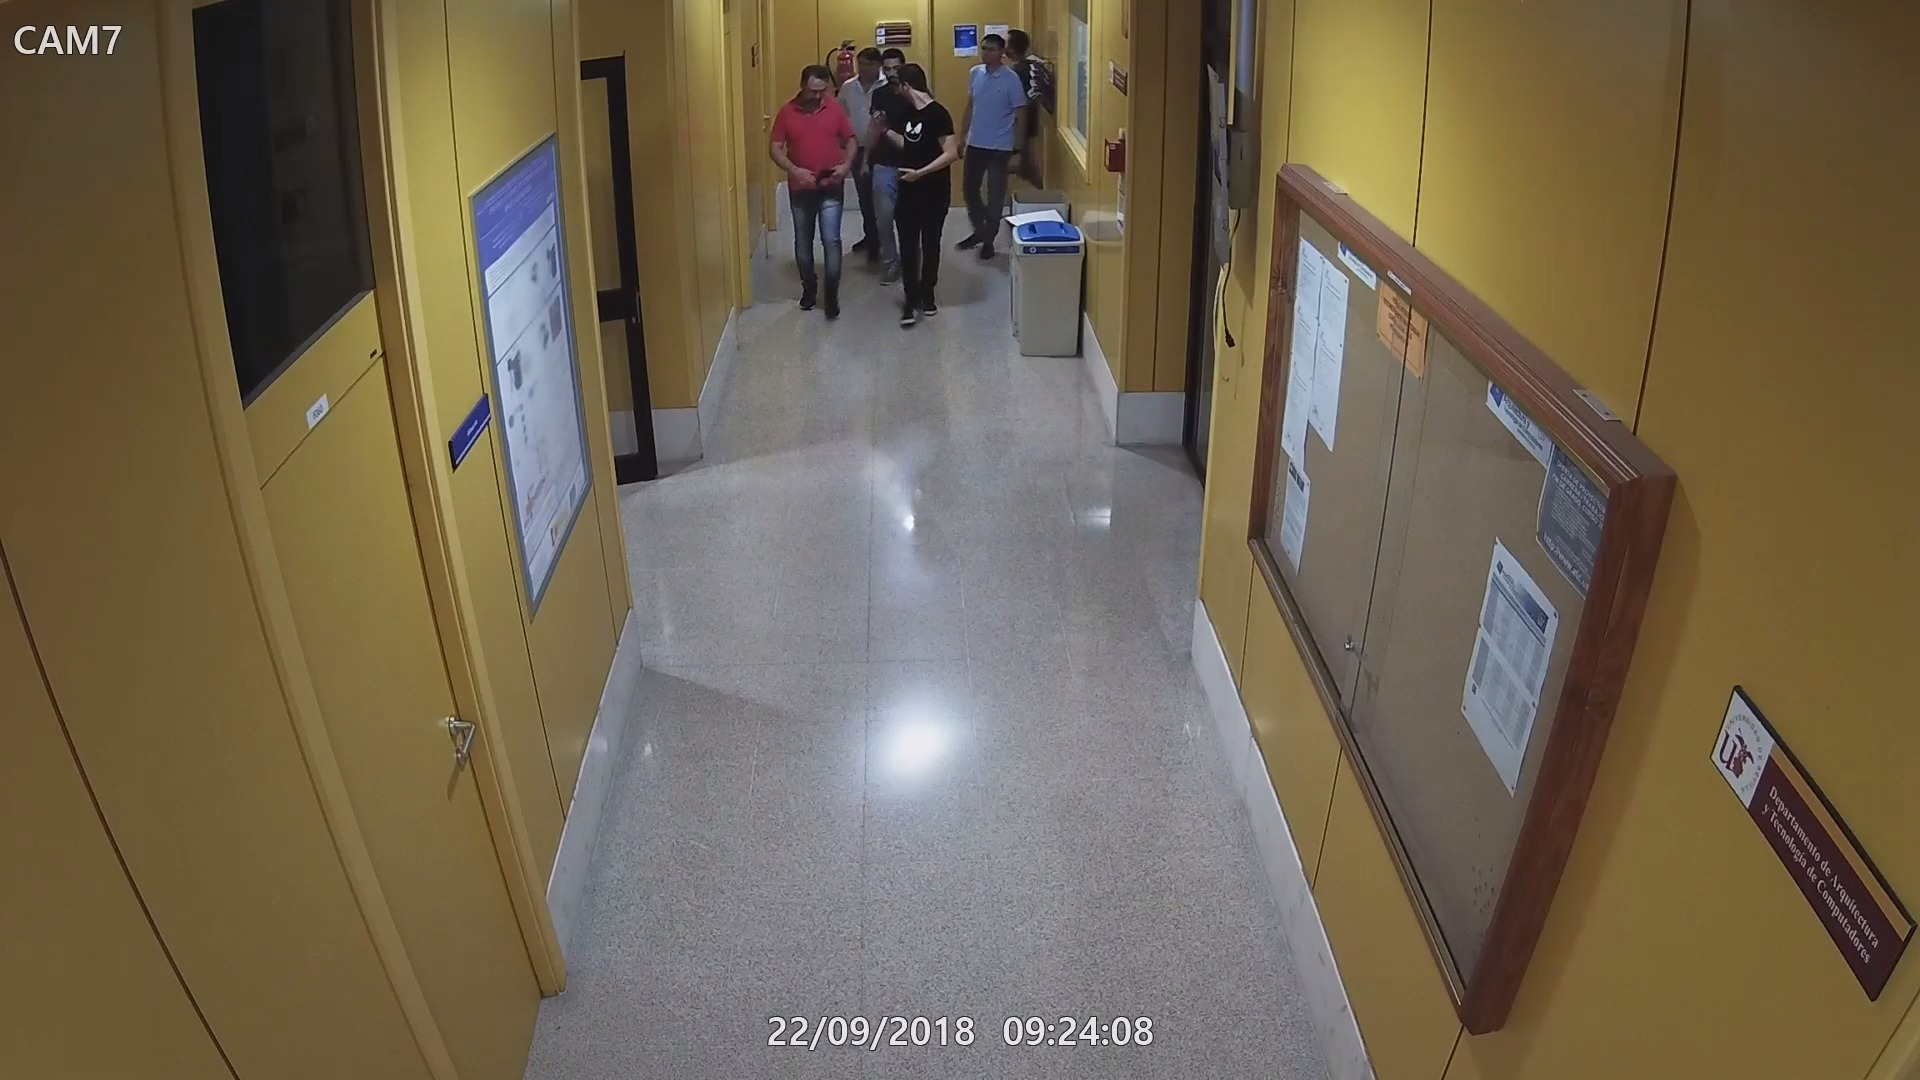Handgun: (800, 164, 840, 189), (849, 162, 876, 198)
